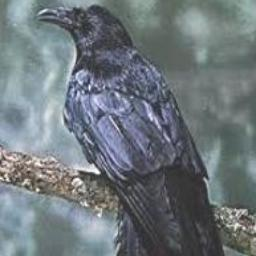Crow: (37, 3, 228, 256)
